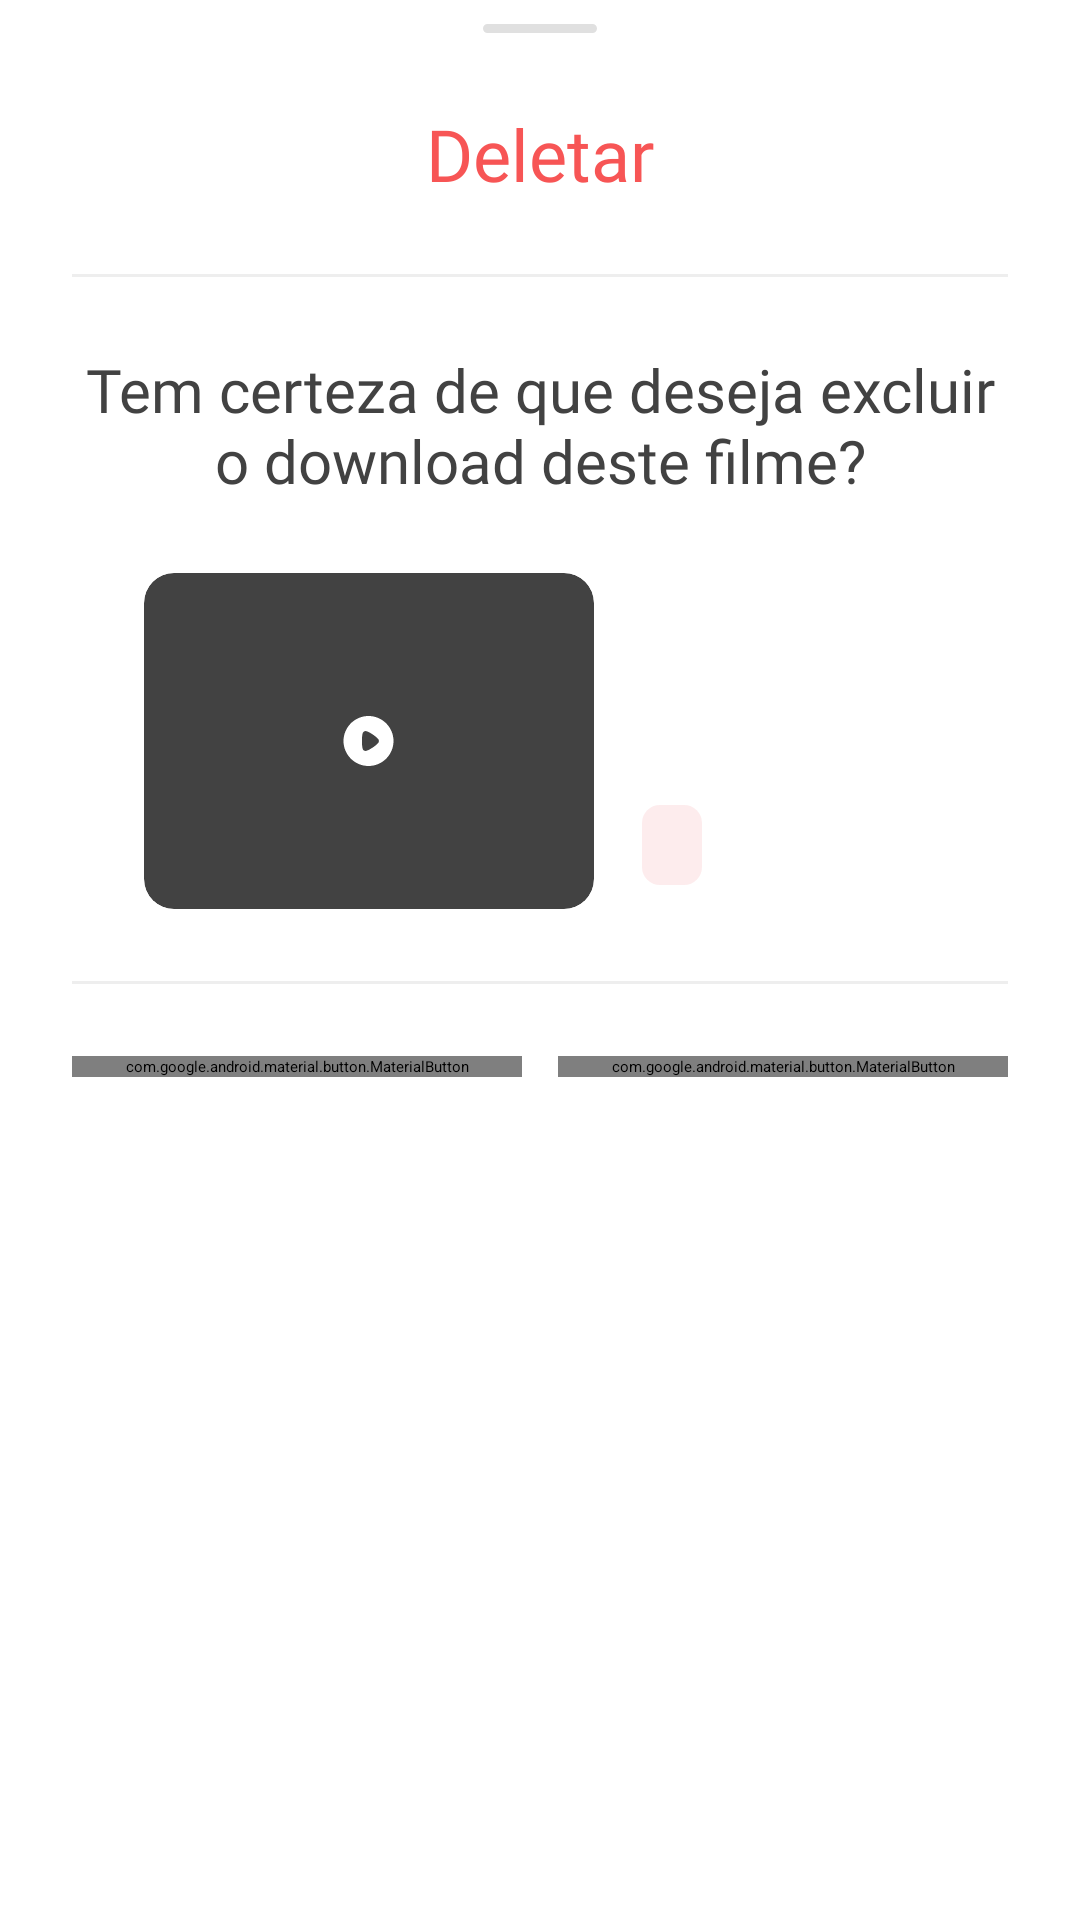

Named icons in this screenshot (1080 × 1920) and their centers, [x,y]:
play: [368,741]
